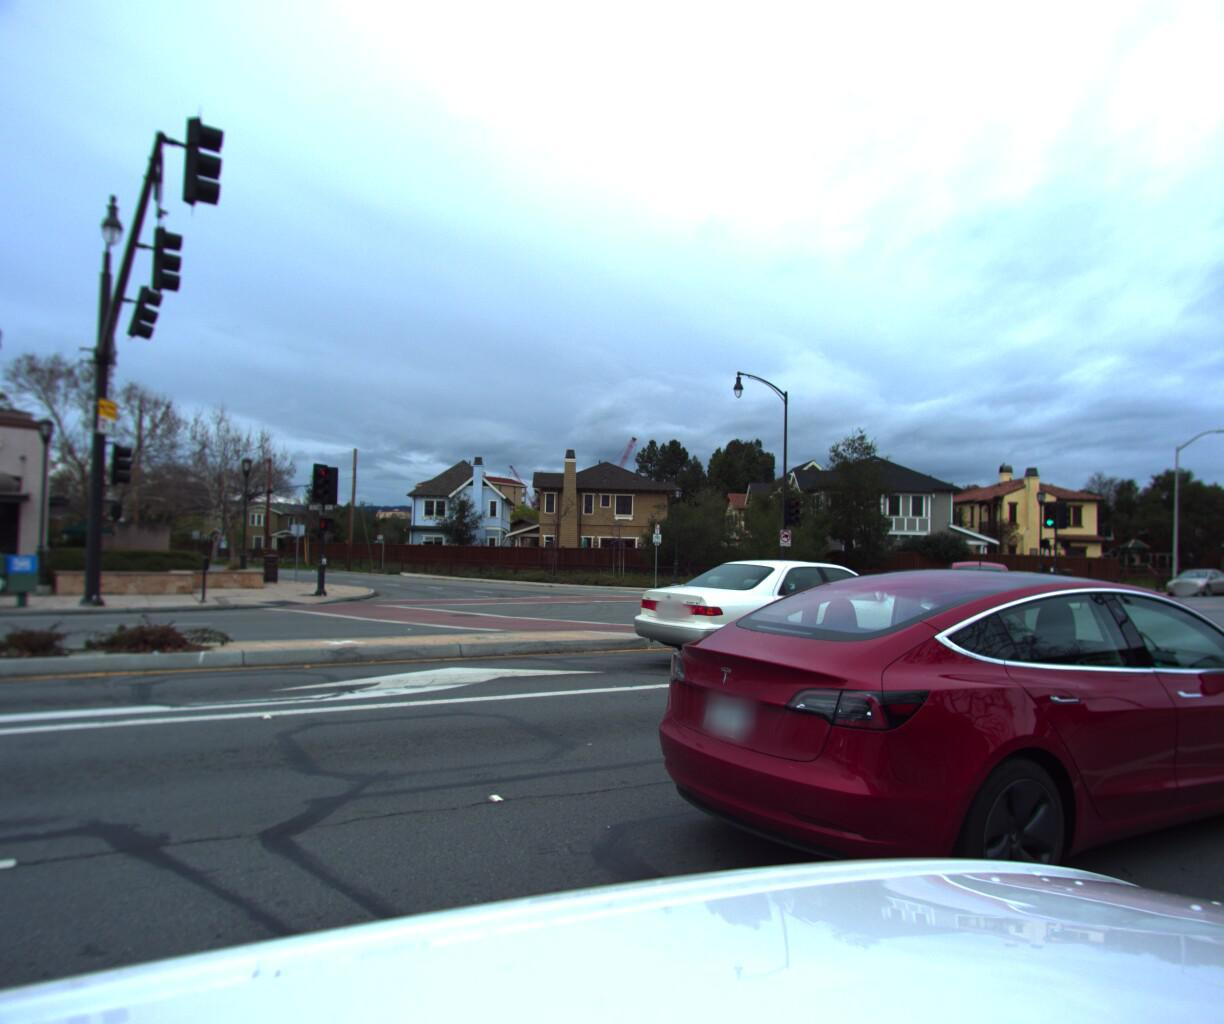car: (618, 539, 1224, 966), (615, 555, 950, 680), (933, 555, 1038, 635), (1155, 562, 1224, 594), (1196, 563, 1224, 593)
